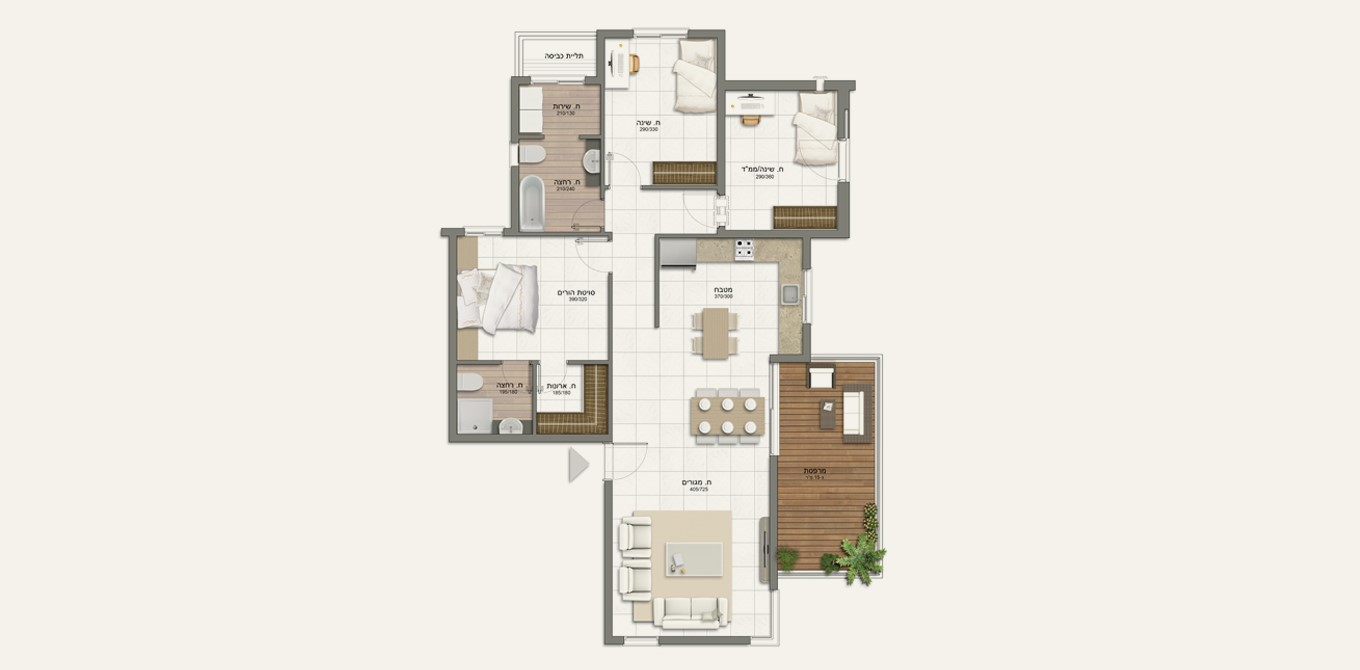door: (618, 437, 655, 483), (571, 239, 603, 282), (608, 146, 644, 174), (566, 197, 595, 230)
wall: (718, 32, 727, 193), (512, 76, 520, 142)
window: (634, 28, 687, 39), (514, 32, 595, 39)
